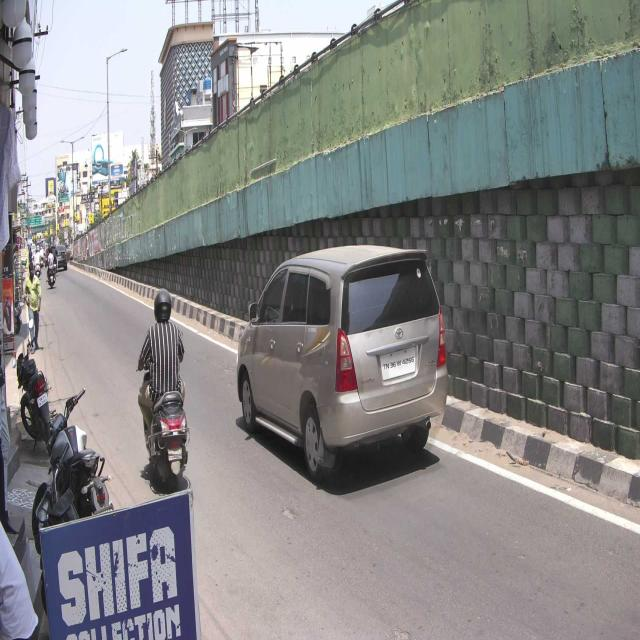single_rider: (137, 288, 191, 491)
